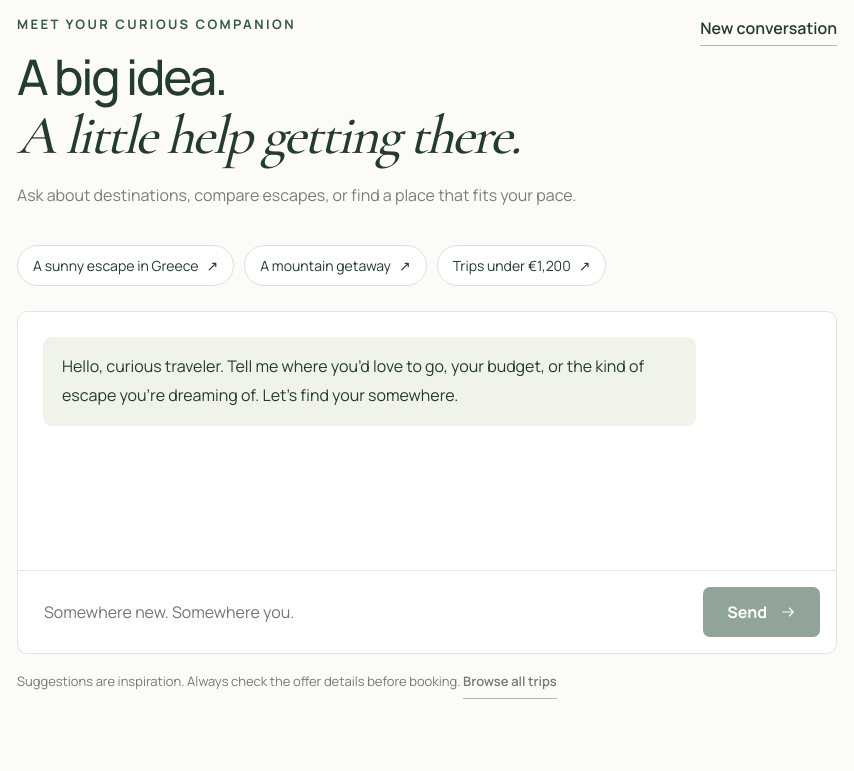
Test case: a message renders the reply and stores the conversation
This screenshot has width=854, height=771.
Type "Greece" into the field named "Message your travel planner" at (363, 612), box [34,587,691,637]
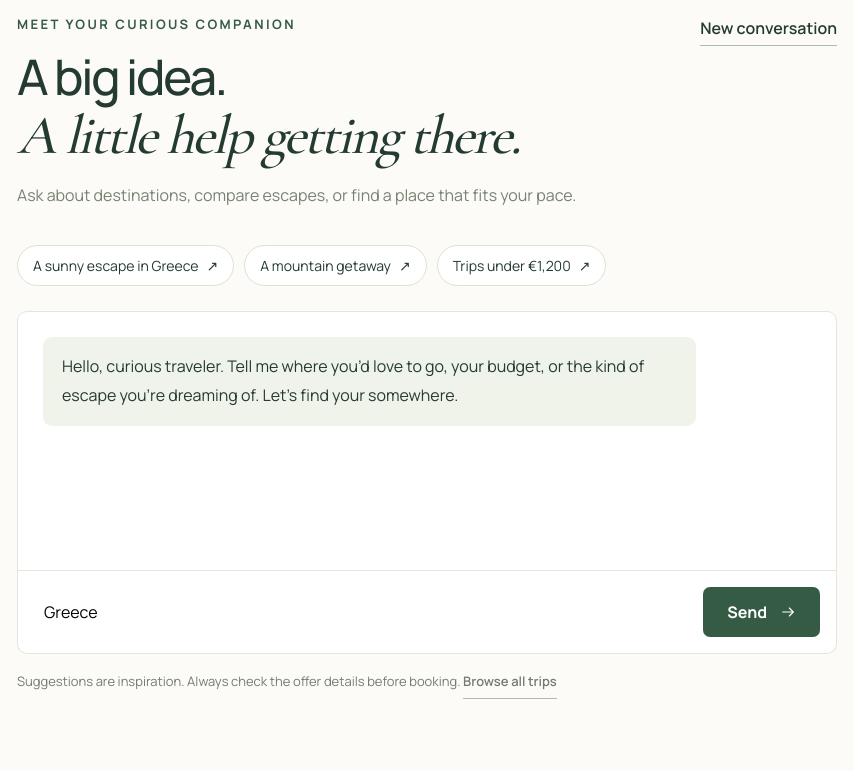
Click the button "Send" at (762, 612), box [703,587,820,637]
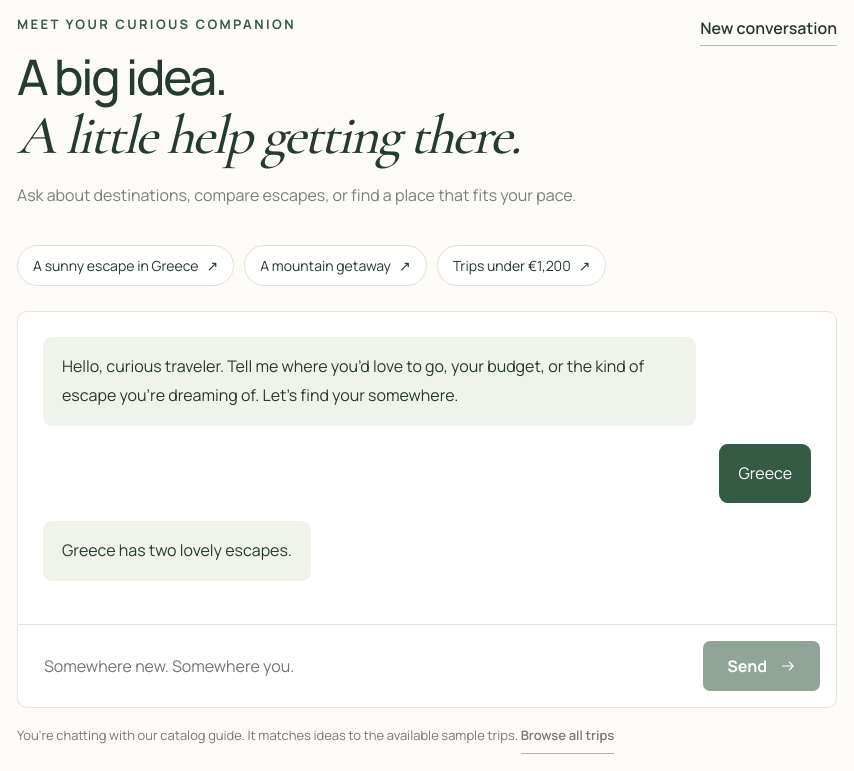
Now the text "Greece has two lovely escapes." is shown, box [43,521,311,581]
Click the button "New conversation" at (769, 31), box [700,17,837,46]
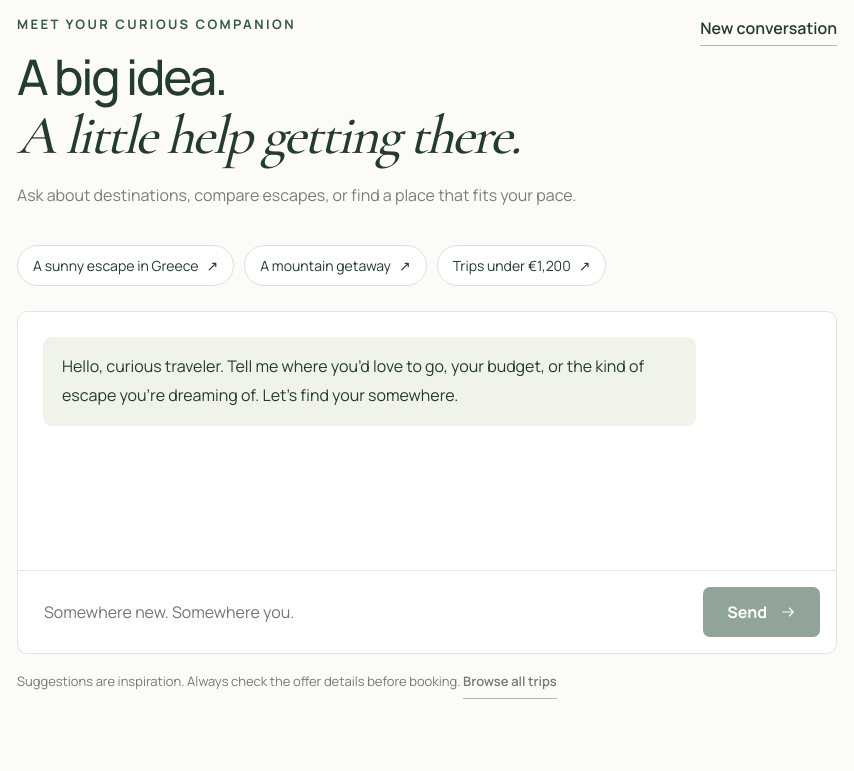
Now the text "Greece has two lovely escapes" is gone
